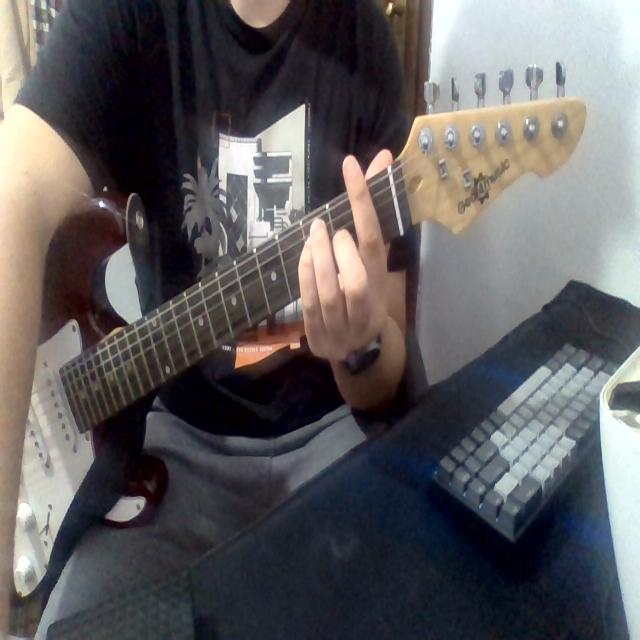F: (282, 119, 397, 368)
